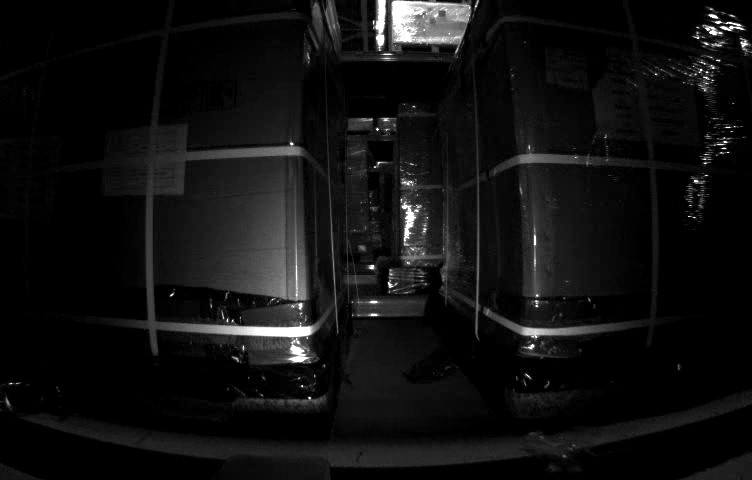True Barcode: (544, 45, 592, 91)
